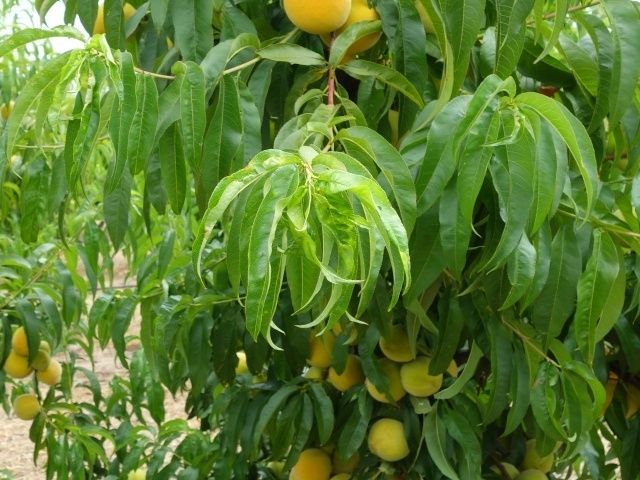peach: (319, 1, 391, 56), (277, 1, 354, 39), (361, 353, 409, 409), (363, 415, 415, 465), (395, 352, 445, 403), (373, 318, 423, 365), (297, 323, 342, 372), (324, 350, 370, 395), (286, 444, 339, 479), (315, 437, 360, 476), (514, 436, 557, 473), (7, 324, 41, 359), (9, 390, 43, 423), (484, 455, 524, 479), (38, 359, 66, 389), (25, 346, 53, 374)
